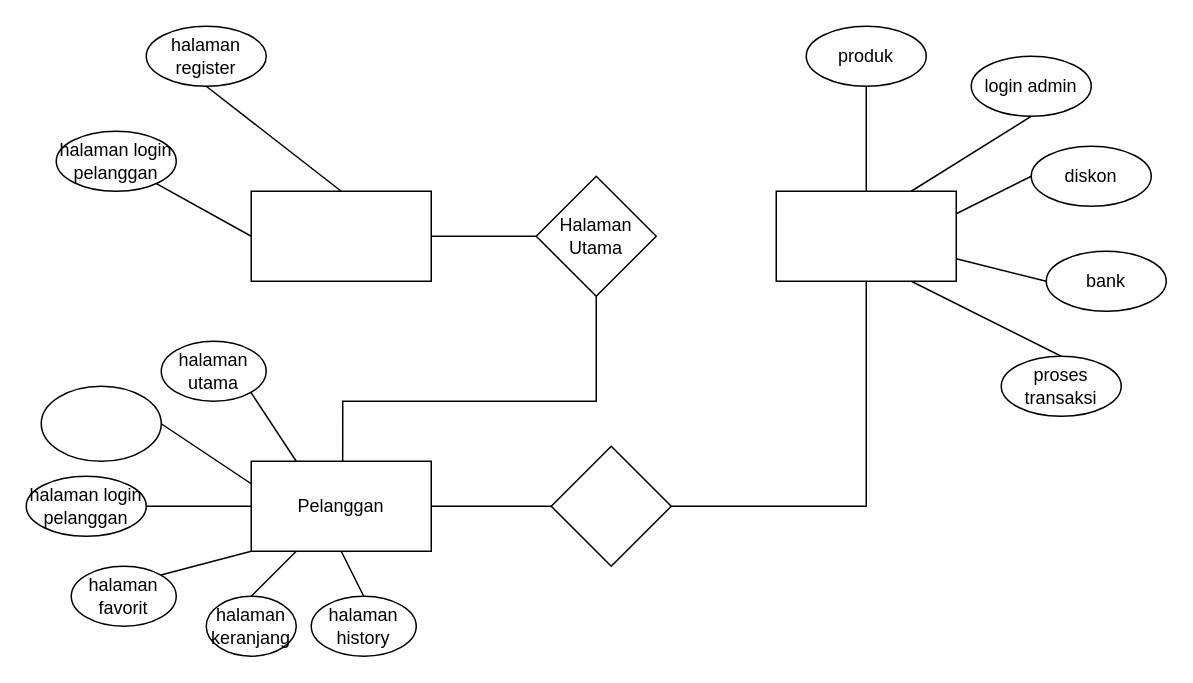
The diagram is 1193 pixels wide and 683 high, and some of its shapes have lost their labels. The centre of each missing label's shape, as x and y in pixels:
"Admin" belongs at [865,235].
"halaman produk" belongs at [100,423].
"Pengunjung" belongs at [340,235].
"Transaksi" belongs at [610,505].
